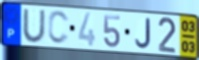2: (158, 16, 177, 55)
4: (77, 11, 97, 49)
5: (103, 13, 122, 49)
C: (46, 10, 70, 46)
J: (134, 17, 153, 50)
U: (22, 8, 47, 44)
